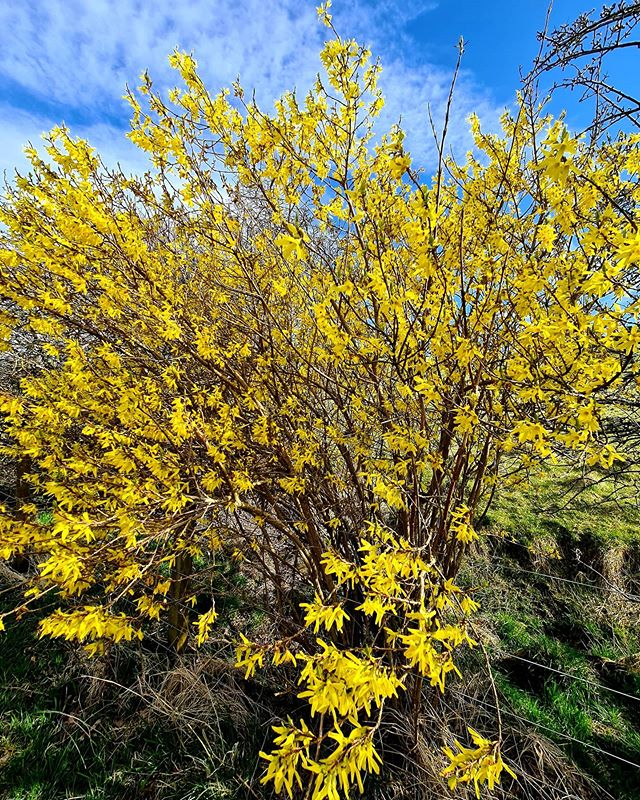sky: (9, 1, 592, 148)
tree: (1, 89, 621, 775)
